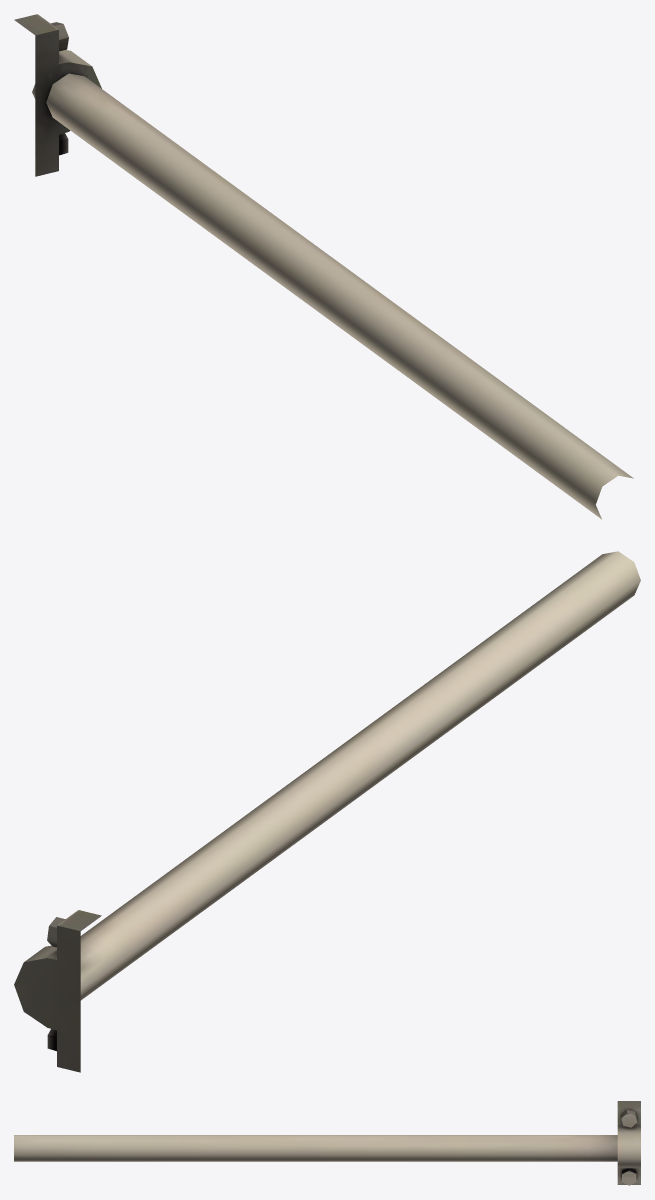
3 views of the same model, one above another, from view 1: azimuth 30°, elevation 25°; view 2: azimuth 150°, elevation 25°; view 3: azimuth 270°, elevation 25° (orthographic). The views are drawn at different scales.
Parts seen in each view (by area): view 1: body0_model0_lod0_mesh0; view 2: body0_model0_lod0_mesh0; view 3: body0_model0_lod0_mesh0.
Part boxes in pixels (x1=…): body0_model0_lod0_mesh0: x1=14, y1=14, x2=633, y2=519; body0_model0_lod0_mesh0: x1=14, y1=551, x2=640, y2=1072; body0_model0_lod0_mesh0: x1=14, y1=1101, x2=640, y2=1185.
Bounding box in the file's own units: 4.32 × 8.74 × 64.
1 material, 1 textured.
